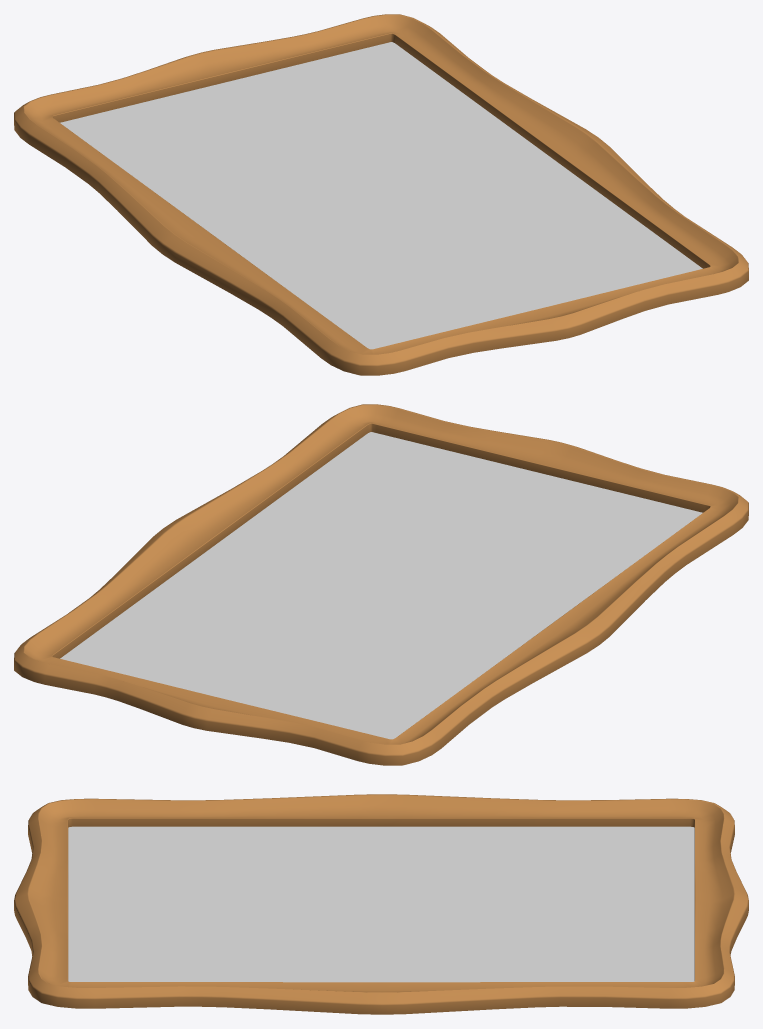
The model's file is picture_frame.fbx.
3 renders of one model, top to bottom at view 1: azimuth 30°, elevation 25°; view 2: azimuth 150°, elevation 25°; view 3: azimuth 270°, elevation 25°, orthographic.
Visible parts, largest first — view 1: horizontal_plane, vertical_plane, rahmen; view 2: vertical_plane, horizontal_plane, rahmen; view 3: vertical_plane, horizontal_plane, rahmen.
Part boxes in pixels (x1,y1,x2,y2): horizontal_plane: [60, 42, 701, 348]; vertical_plane: [61, 42, 702, 349]; rahmen: [14, 14, 748, 375]; vertical_plane: [60, 432, 702, 739]; horizontal_plane: [60, 433, 701, 738]; rahmen: [14, 404, 748, 765]; vertical_plane: [68, 826, 694, 982]; horizontal_plane: [68, 826, 694, 982]; rahmen: [14, 794, 748, 1014].
Bounding box in the file's own units: 128 × 4.84 × 190.
